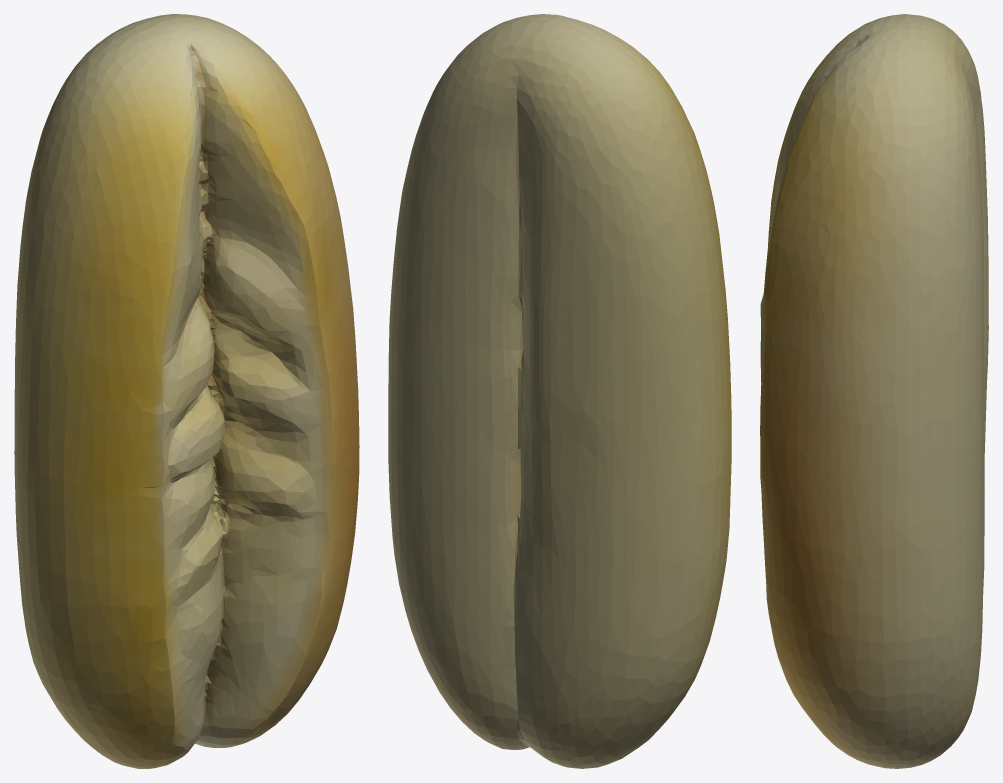
File: bread.glb
The picture shows the model from 3 angles, left to right: view 1: azimuth 30°, elevation 25°; view 2: azimuth 150°, elevation 25°; view 3: azimuth 270°, elevation 25°; orthographic projection.
Parts seen in each view (by area): view 1: world; view 2: world; view 3: world.
Boxes of the visible parts, bbox=[...] form: world: bbox=[14, 14, 359, 768]; world: bbox=[388, 14, 731, 768]; world: bbox=[760, 14, 988, 768].
Bounding box in the file's own units: 0.0409 × 0.0914 × 0.0262.
1 material, 1 textured.
